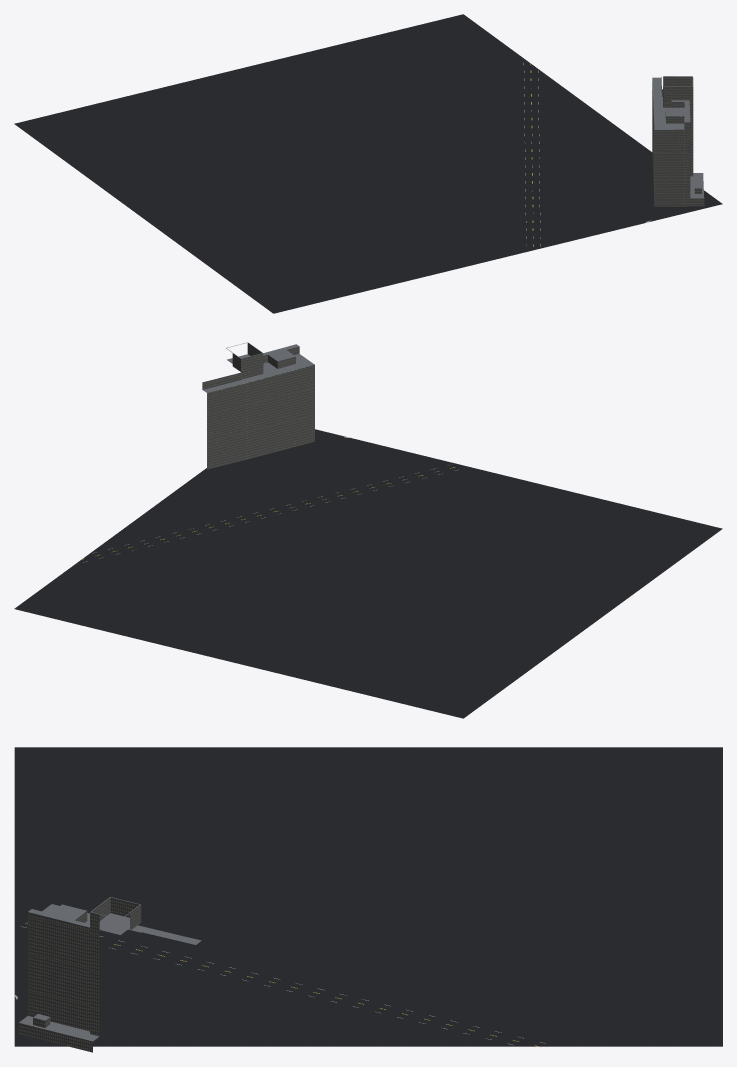
The picture shows the model from 3 angles, top to bottom: view 1: azimuth 30°, elevation 25°; view 2: azimuth 150°, elevation 25°; view 3: azimuth 270°, elevation 25°; orthographic projection. The views are drawn at different scales.
Visible parts, largest first — view 1: t2_3; view 2: t2_3; view 3: t2_3.
Part boxes in pixels (box(x1,y1,x2,y2)): t2_3: box(14, 14, 722, 313); t2_3: box(14, 342, 722, 718); t2_3: box(14, 747, 722, 1052).
Bounding box in the file's own units: 255 × 51.94 × 250.
Materials: 4 (2 with a texture image).
